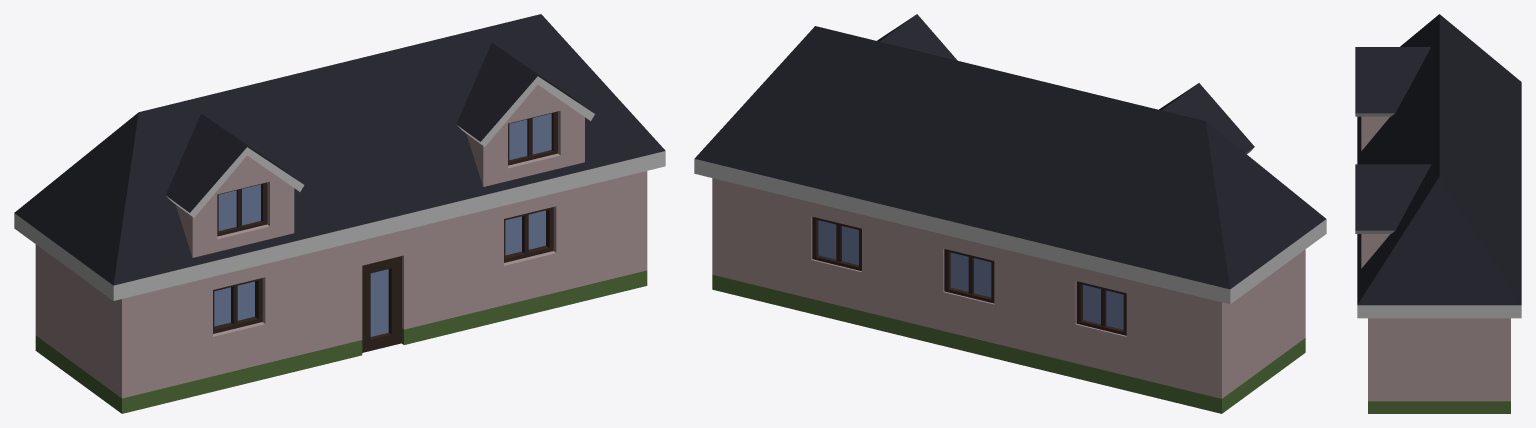
File: FamilyHouse_06.fbx
3 views of the same model, side by side, from view 1: azimuth 30°, elevation 25°; view 2: azimuth 150°, elevation 25°; view 3: azimuth 270°, elevation 25° (orthographic). The views are drawn at different scales.
Parts seen in each view (by area): view 1: FamilyHouse_06; view 2: FamilyHouse_06; view 3: FamilyHouse_06.
Part boxes in pixels (x1,y1,x2,y2): FamilyHouse_06: [14, 14, 665, 413]; FamilyHouse_06: [694, 14, 1326, 413]; FamilyHouse_06: [1355, 14, 1521, 413].
Bounding box in the file's own units: 15.09 × 6.67 × 4.76.
